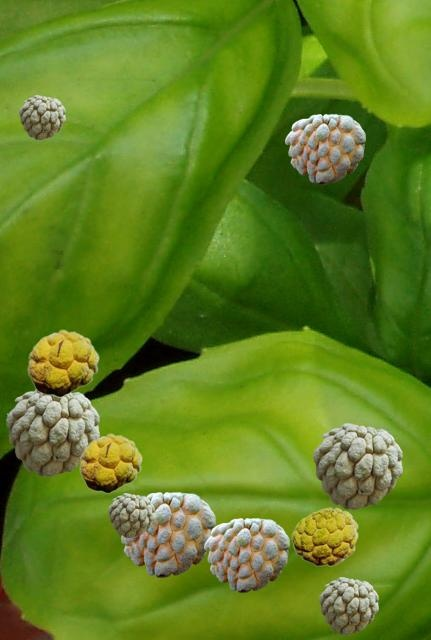atis: (120, 492, 214, 576), (6, 390, 98, 475), (313, 423, 401, 508), (204, 518, 288, 591), (285, 114, 364, 183), (27, 329, 98, 396), (291, 507, 357, 565), (79, 433, 141, 492), (319, 577, 377, 633), (19, 95, 64, 138), (108, 493, 153, 536)
